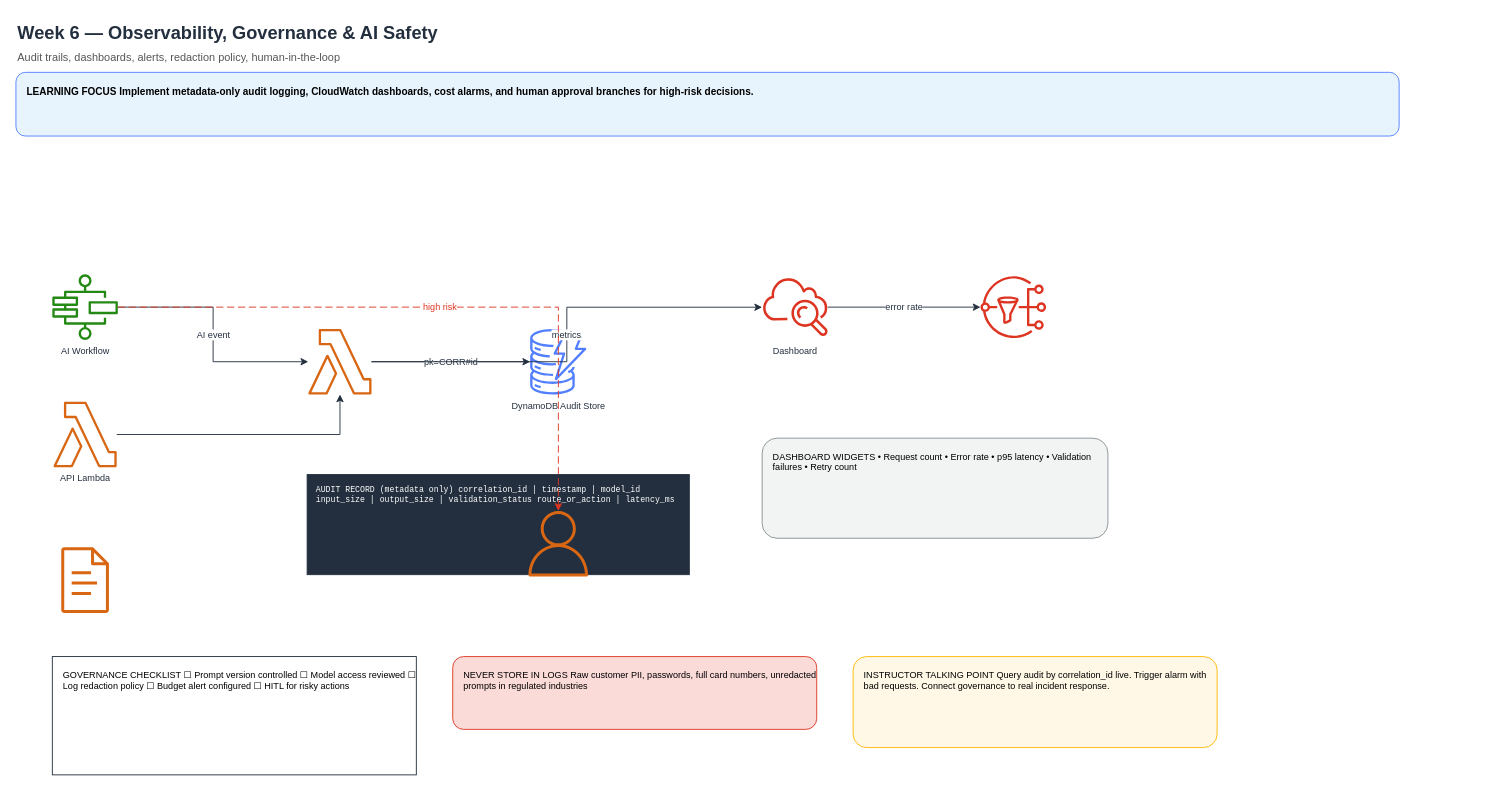
This 1506x791 diagram has some shape labels left out. The centre of each missing label's shape, as x and y in pixels:
"Audit Emitter" belongs at point (339, 361).
"Governance Checklist" belongs at point (84, 579).
"Human Approval" belongs at point (558, 543).
"SNS Alarm" belongs at point (1013, 306).
